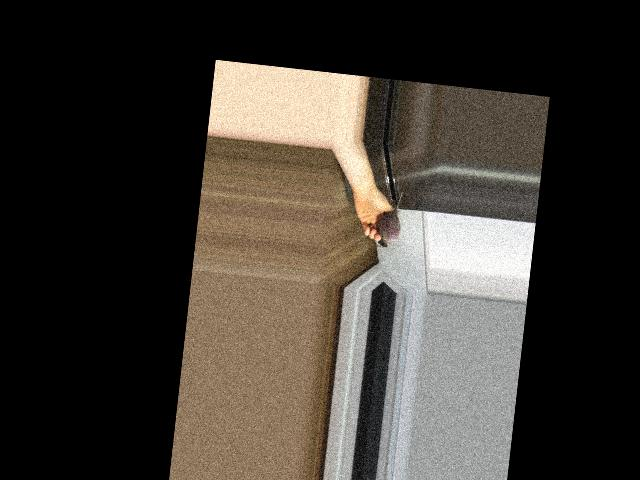beet: (375, 190, 404, 249)
